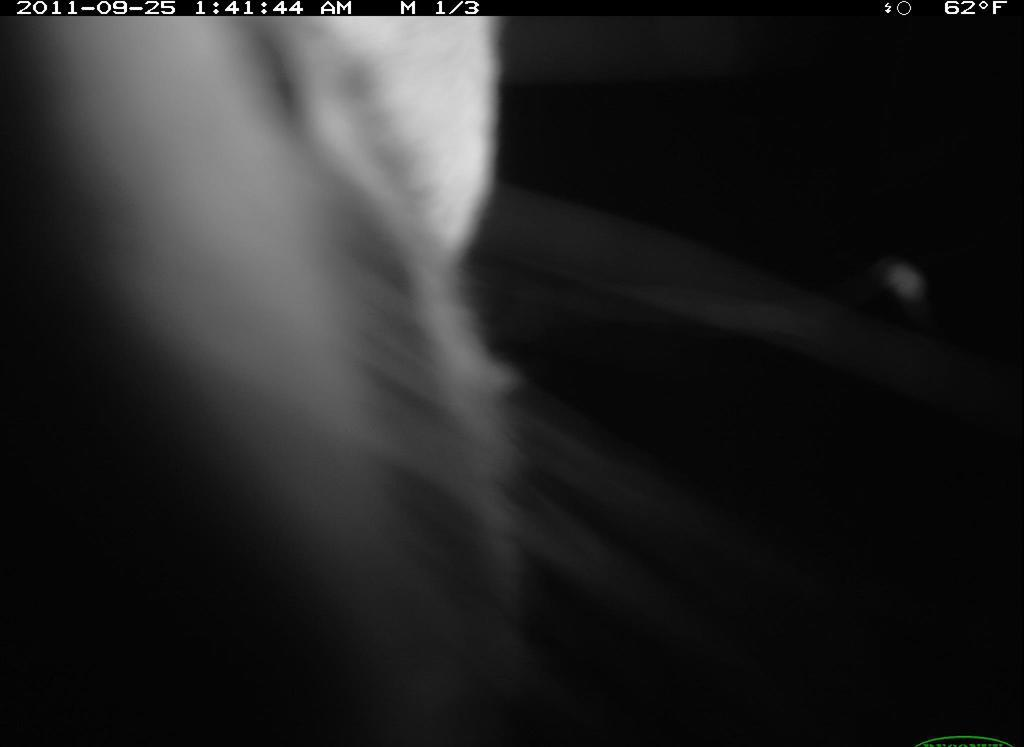raccoon: (4, 16, 633, 745)
